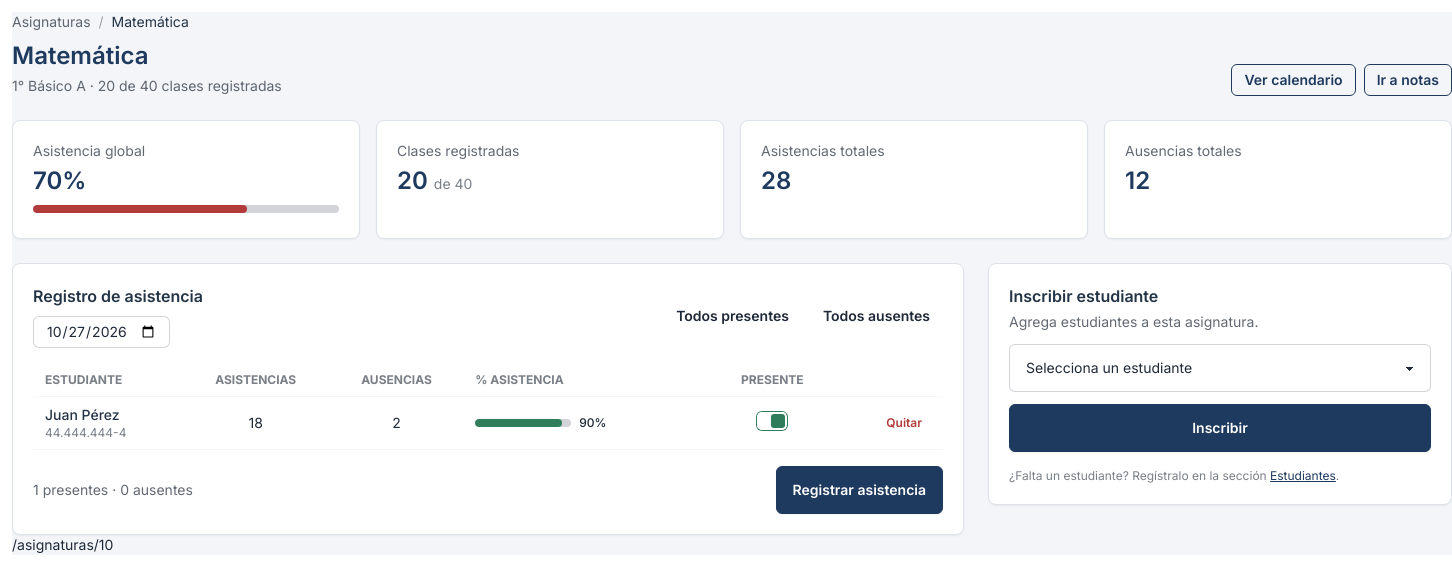
Scenario: SubjectDetail › marca a todos presentes o ausentes
The width and height of the screenshot is (1452, 572).
Expected: the link "Juan Pérez" is shown, [45,406,120,423]
Click the button "Todos ausentes". click: (876, 316)
box: [810,300,943,332]
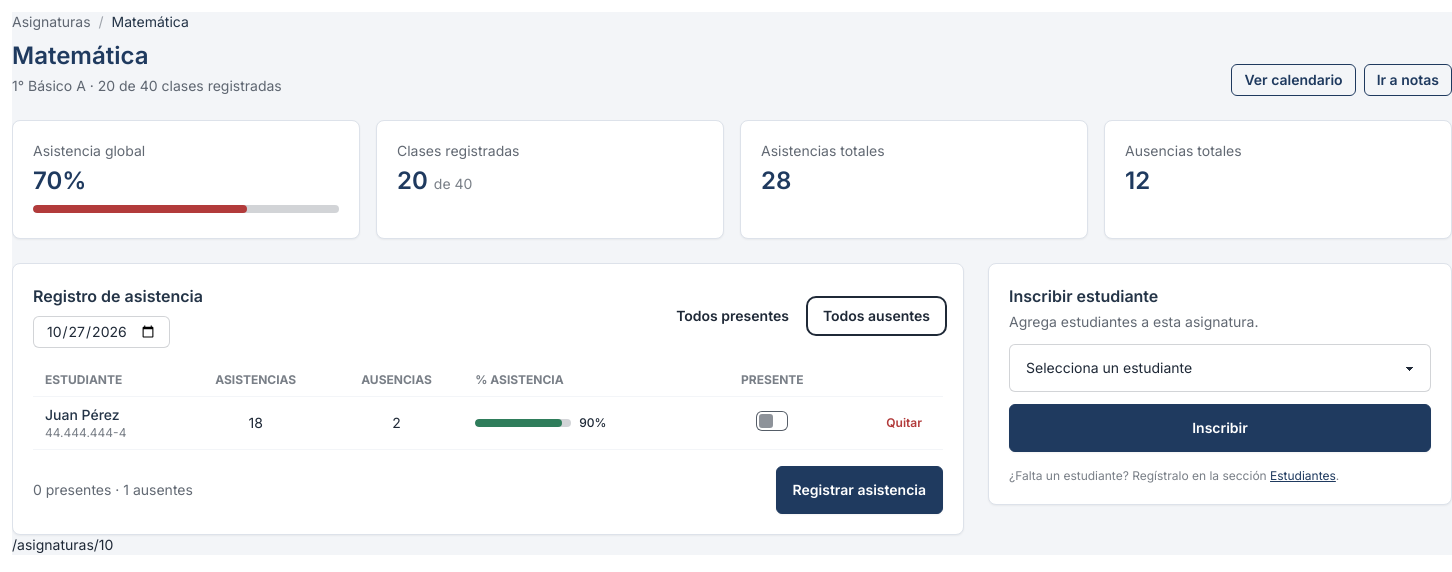
Result: the checkbox named "Presente: Juan Pérez" is not checked at [756,410,788,430]
Click the button "Todos presentes". click: (733, 316)
box: [663,300,802,332]
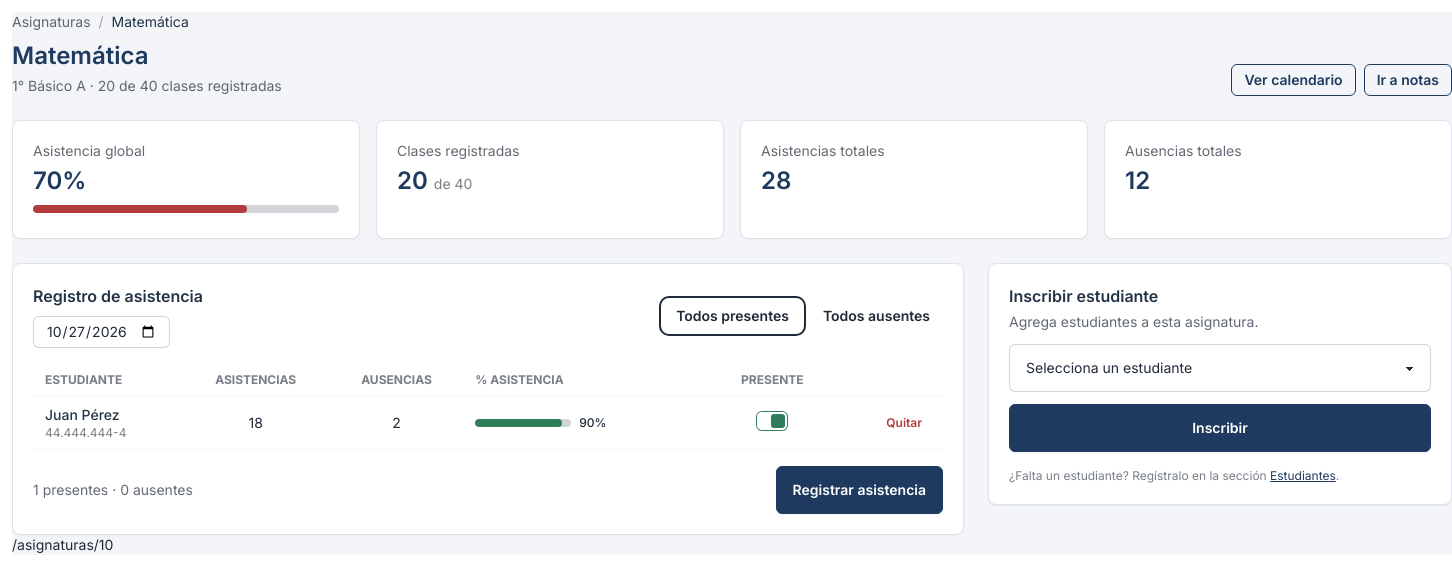
Result: the checkbox named "Presente: Juan Pérez" is checked at [756,410,788,430]
